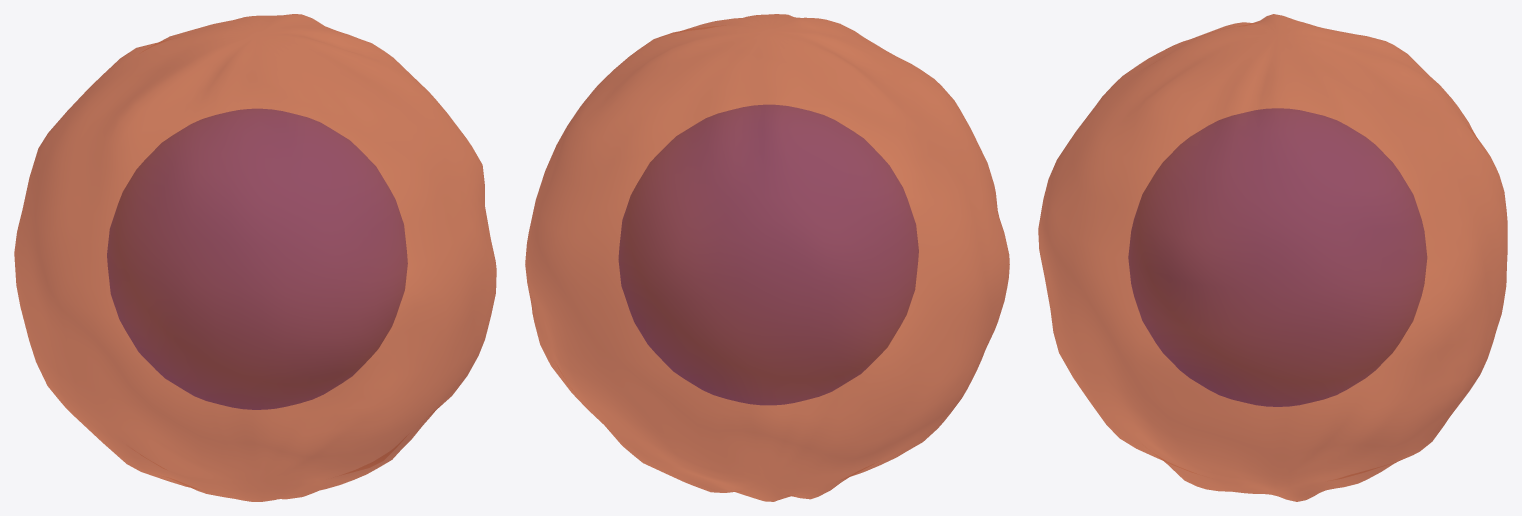
File: RoughSeed.fbx
3 renders of one model, left to right at view 1: azimuth 30°, elevation 25°; view 2: azimuth 150°, elevation 25°; view 3: azimuth 270°, elevation 25°, orthographic.
Visible parts, largest first — view 1: Shell, InnerSeed; view 2: Shell, InnerSeed; view 3: Shell, InnerSeed.
Part boxes in pixels (x1=…): Shell: x1=14, y1=14, x2=496, y2=501; InnerSeed: x1=107, y1=109, x2=407, y2=409; Shell: x1=525, y1=14, x2=1009, y2=501; InnerSeed: x1=619, y1=105, x2=918, y2=404; Shell: x1=1038, y1=14, x2=1507, y2=501; InnerSeed: x1=1128, y1=108, x2=1426, y2=406.
Bounding box in the file's own units: 316 × 328 × 314.
